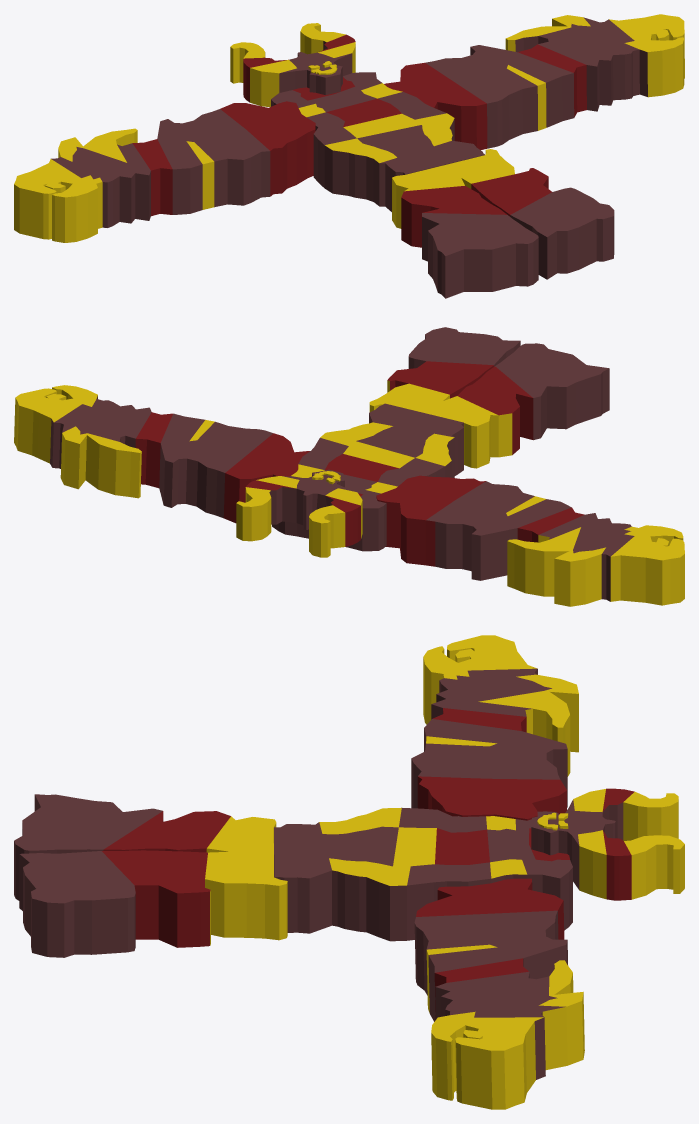
The model's file is boss.fbx.
3 renders of one model, top to bottom at view 1: azimuth 30°, elevation 25°; view 2: azimuth 150°, elevation 25°; view 3: azimuth 270°, elevation 25°, orthographic. The views are drawn at different scales.
Parts seen in each view (by area): view 1: boss; view 2: boss; view 3: boss.
Part boxes in pixels (x1,y1,x2,y2): boss: (14, 14, 684, 298); boss: (14, 327, 684, 606); boss: (14, 635, 684, 1109).
Size of the model in its own units: 677 by 67.38 by 460.
